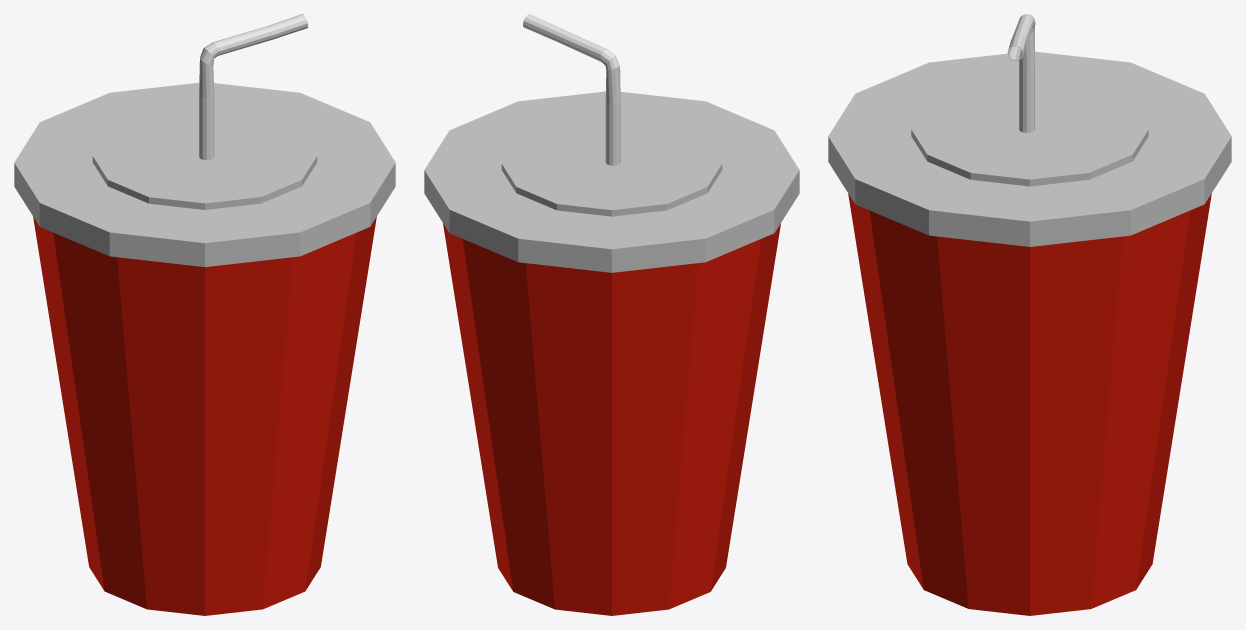
File: cup.glb
3 renders of one model, left to right at view 1: azimuth 30°, elevation 25°; view 2: azimuth 150°, elevation 25°; view 3: azimuth 270°, elevation 25°, orthographic. The views are drawn at different scales.
Visible parts, largest first — view 1: Cylinder, Cylinder.002, Cylinder.004; view 2: Cylinder, Cylinder.002, Cylinder.004; view 3: Cylinder, Cylinder.002, Cylinder.004.
Boxes of the visible parts, x1=… form: Cylinder: x1=33, y1=216, x2=376, y2=615; Cylinder.002: x1=14, y1=82, x2=395, y2=266; Cylinder.004: x1=199, y1=14, x2=308, y2=160; Cylinder: x1=443, y1=223, x2=780, y2=615; Cylinder.002: x1=424, y1=91, x2=799, y2=272; Cylinder.004: x1=523, y1=14, x2=620, y2=165; Cylinder: x1=848, y1=193, x2=1211, y2=615; Cylinder.002: x1=828, y1=51, x2=1231, y2=246; Cylinder.004: x1=1007, y1=14, x2=1035, y2=132.
Size of the model in its own units: 0.691 by 1.07 by 0.691.
